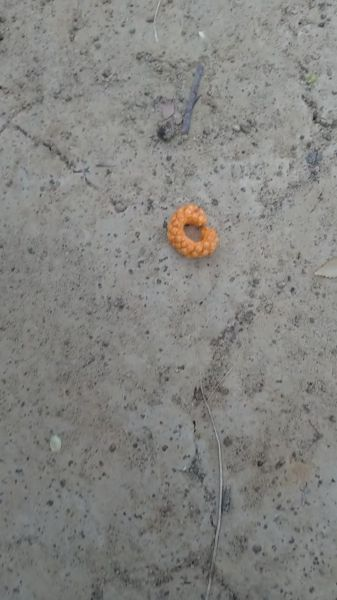eggs: (164, 198, 226, 259)
